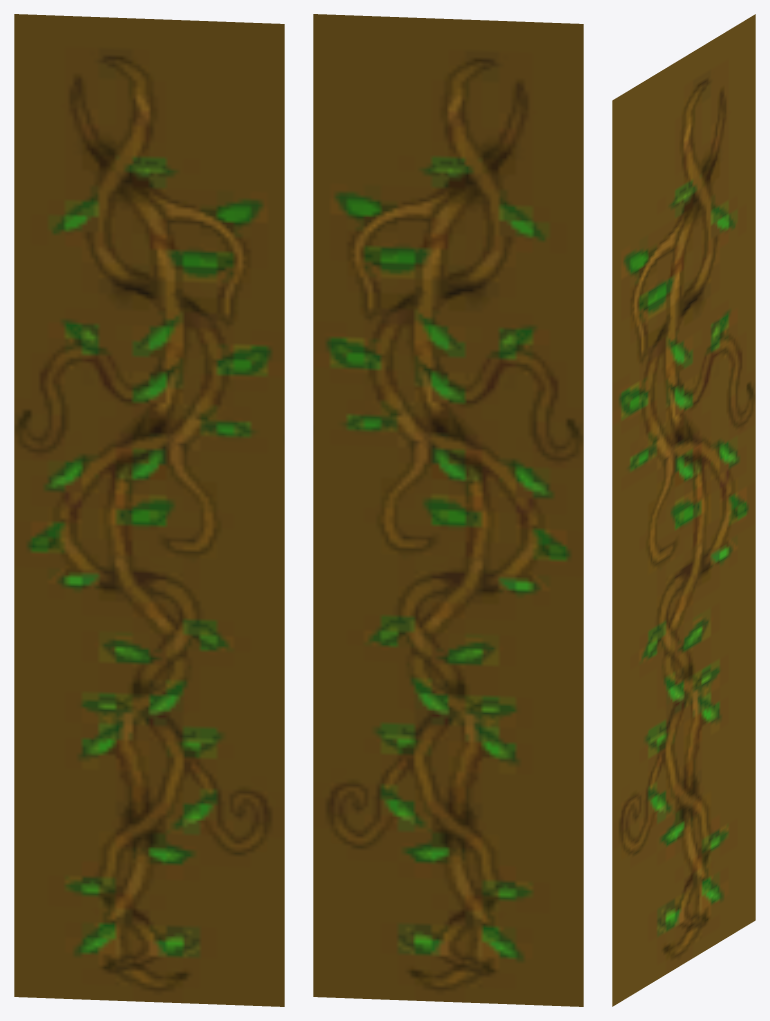
The model's file is EKH_GROTTO_PS_GR_PLANE269.fbx.
The picture shows the model from 3 angles, left to right: view 1: azimuth 30°, elevation 25°; view 2: azimuth 210°, elevation 25°; view 3: azimuth 270°, elevation 25°; orthographic projection. The views are drawn at different scales.
Parts seen in each view (by area): view 1: EKH_GROTTO_PS_GR_PLANE269; view 2: EKH_GROTTO_PS_GR_PLANE269; view 3: EKH_GROTTO_PS_GR_PLANE269.
Boxes of the visible parts, x1,y1,x2,y2 form: EKH_GROTTO_PS_GR_PLANE269: (14,14,284,1006); EKH_GROTTO_PS_GR_PLANE269: (313,14,583,1006); EKH_GROTTO_PS_GR_PLANE269: (612,14,755,1006).
Bounding box in the file's own units: 5650 × 27592 × 3957.
1 material, 1 textured.
